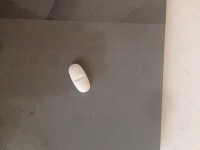Centik Buskopan: (67, 63, 91, 93)
